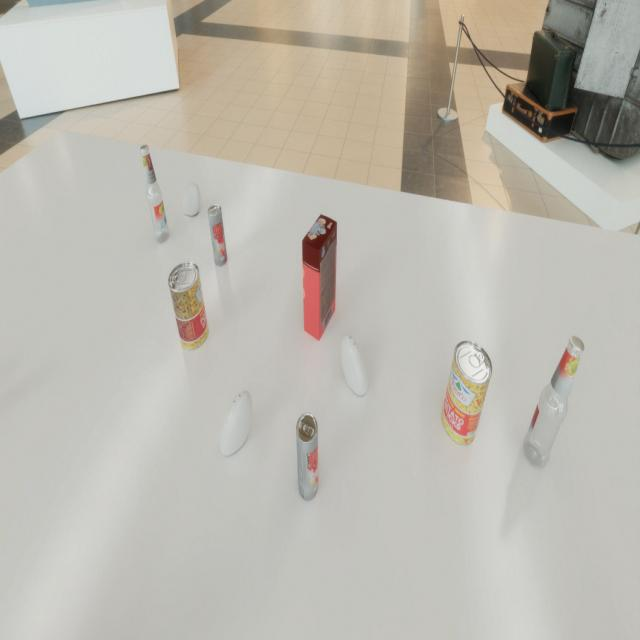Bottle: (523, 336, 584, 468), (140, 145, 170, 243)
HelloPanda: (302, 214, 337, 341)
Potato_sticks: (442, 340, 492, 445), (168, 262, 209, 351)
Rita_zero_sugar: (296, 412, 318, 500), (208, 204, 228, 266)
Salt: (220, 390, 252, 456), (341, 333, 368, 396), (182, 182, 200, 216)
